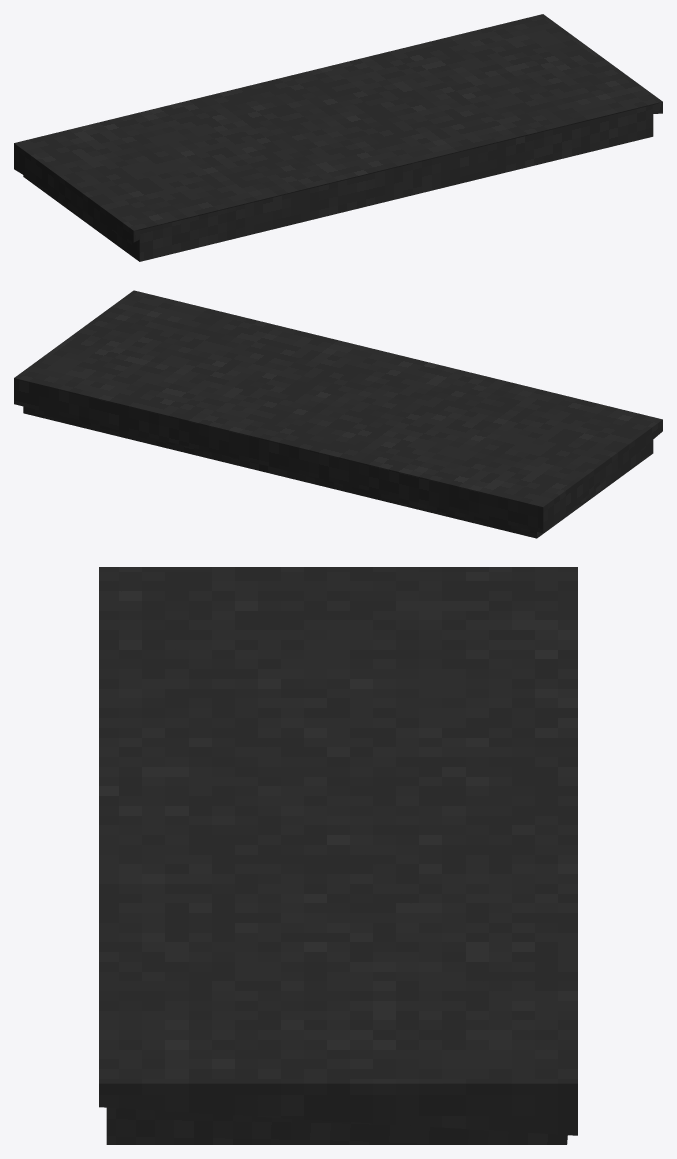
File: chashtray.fbx
3 views of the same model, one above another, from view 1: azimuth 30°, elevation 25°; view 2: azimuth 150°, elevation 25°; view 3: azimuth 270°, elevation 25° (orthographic). The views are drawn at different scales.
Visible parts, largest first — view 1: cashcover, cashtray.002; view 2: cashcover, cashtray.002; view 3: cashcover, cashtray.002.
Part boxes in pixels (bbox=[...]): cashcover: bbox=[14, 14, 662, 242]; cashtray.002: bbox=[23, 105, 653, 261]; cashcover: bbox=[14, 290, 662, 532]; cashtray.002: bbox=[23, 406, 653, 538]; cashcover: bbox=[99, 567, 577, 1135]; cashtray.002: bbox=[106, 1107, 567, 1144].
Bounding box in the file's own units: 104 × 6.5 × 40.94.
